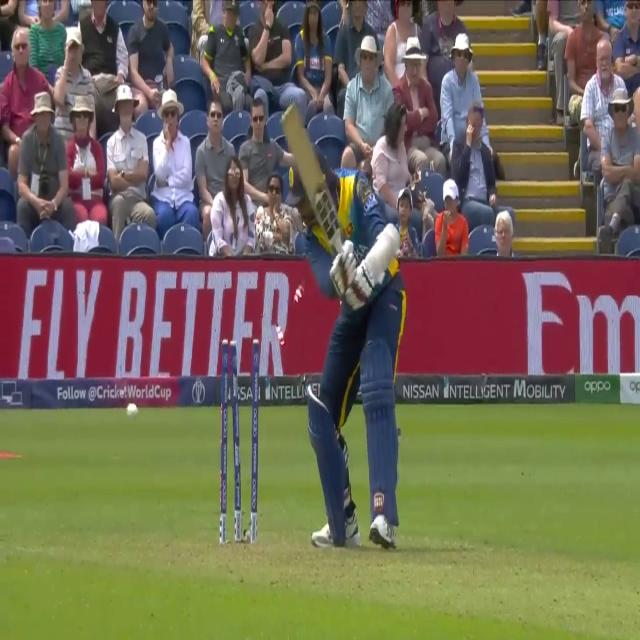ball: (123, 395, 143, 422)
